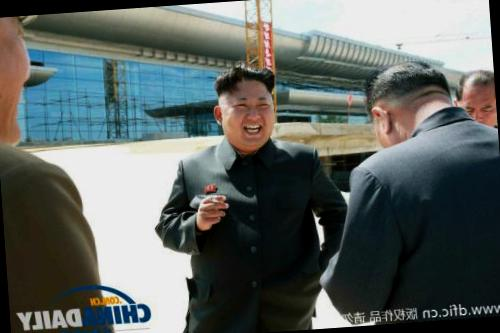no_helmet: (357, 53, 459, 148), (210, 60, 284, 154), (455, 67, 496, 126)
